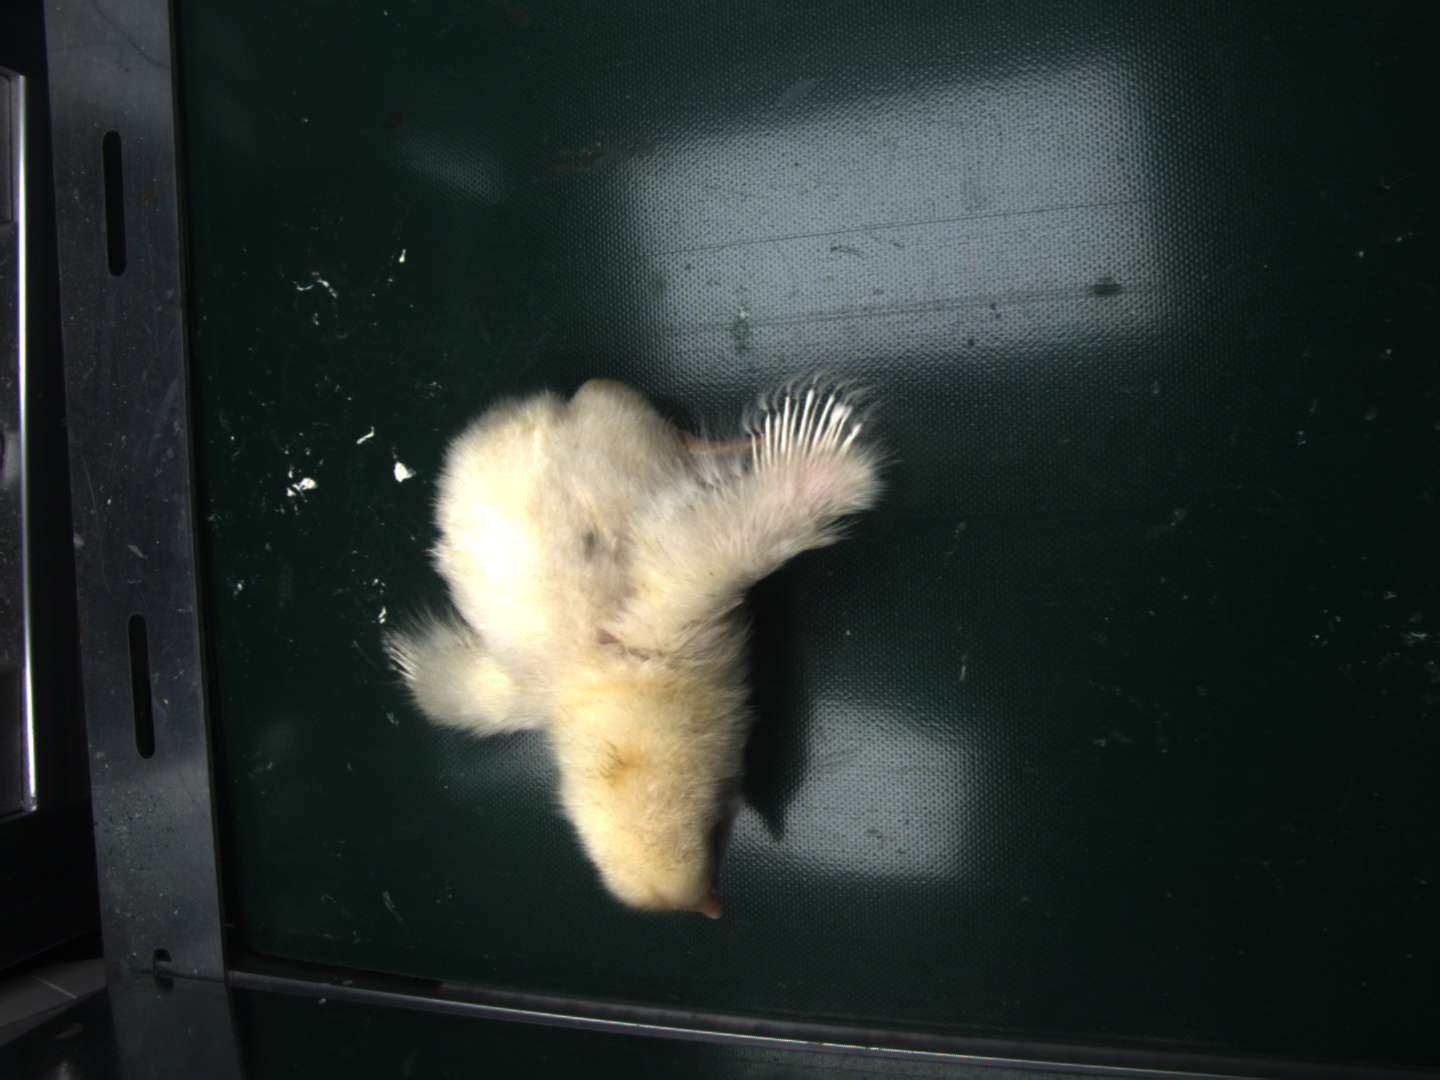male: (757, 387, 865, 462)
